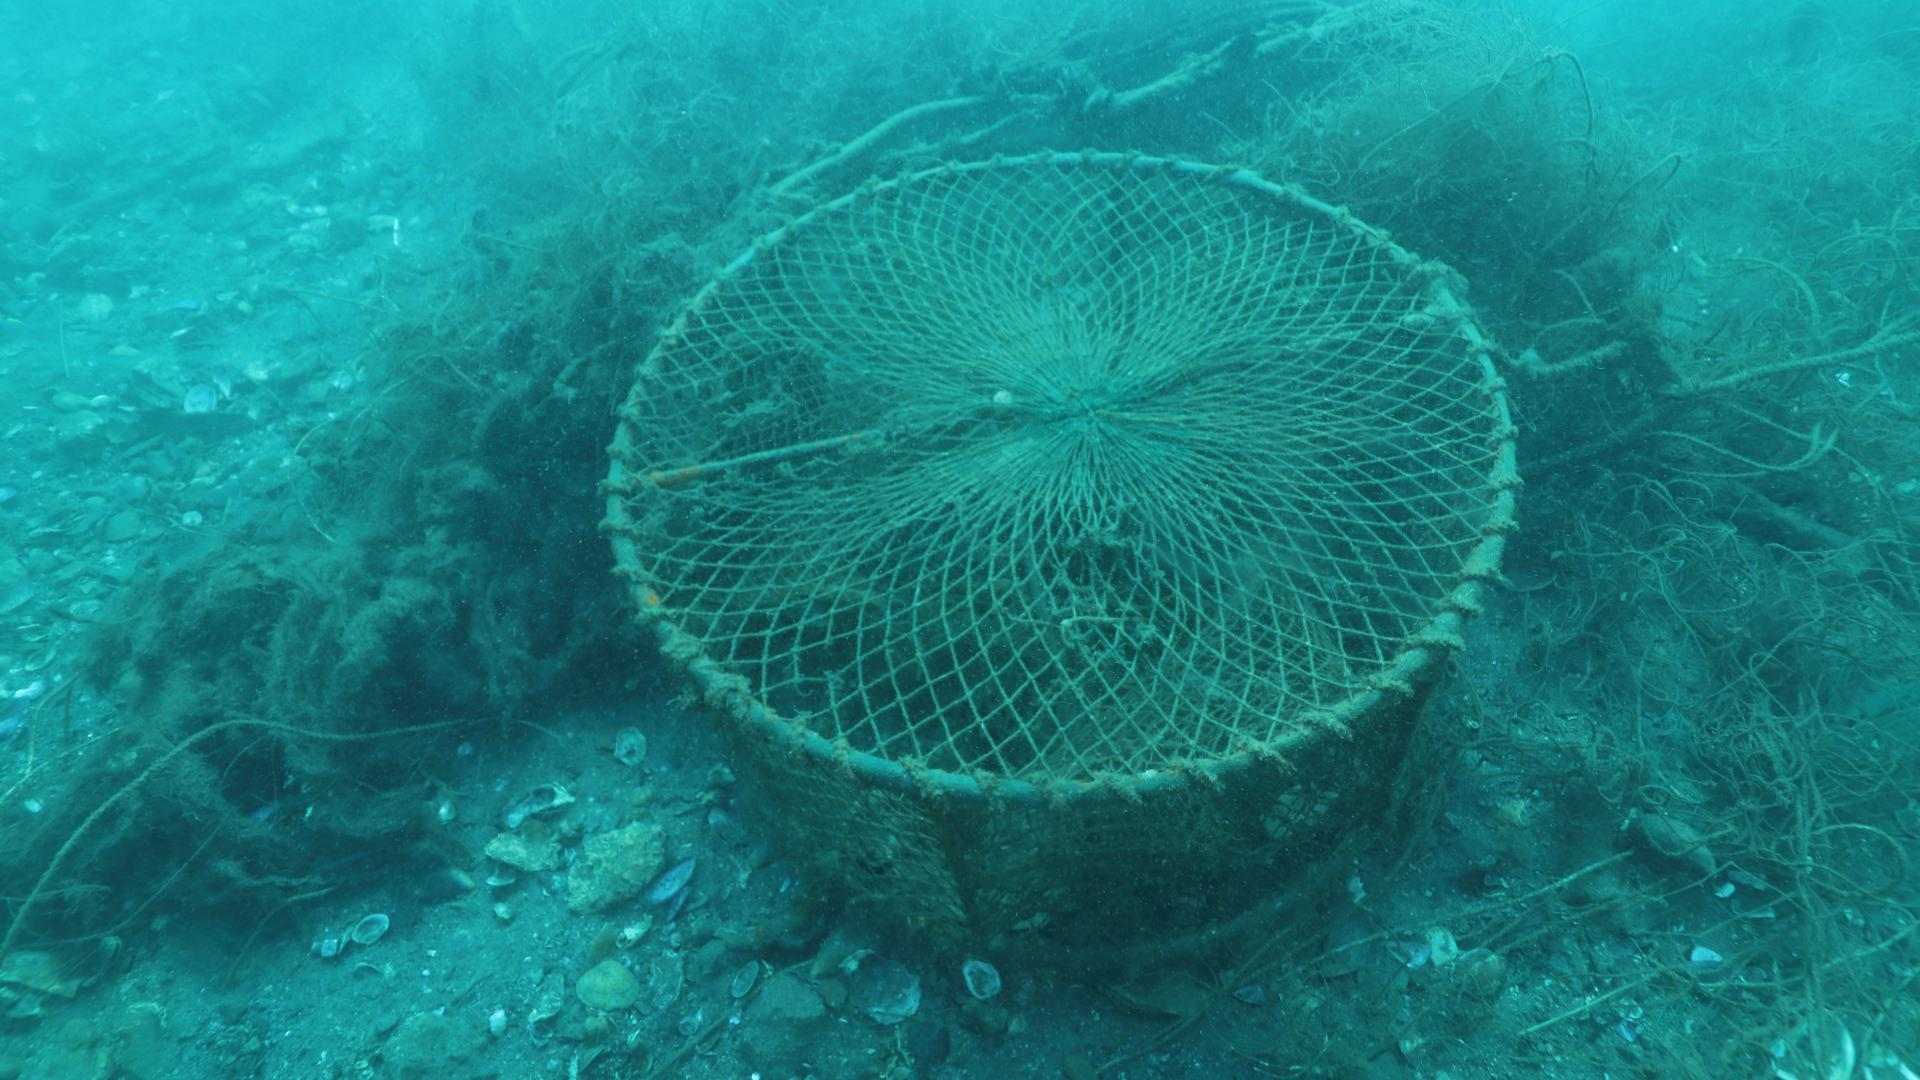circular fish trap: (603, 148, 1520, 963)
